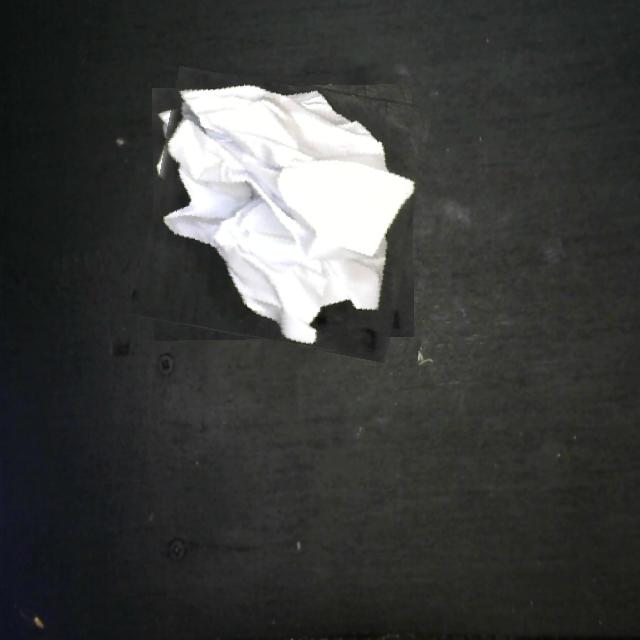biodegradable: (142, 74, 422, 354)
